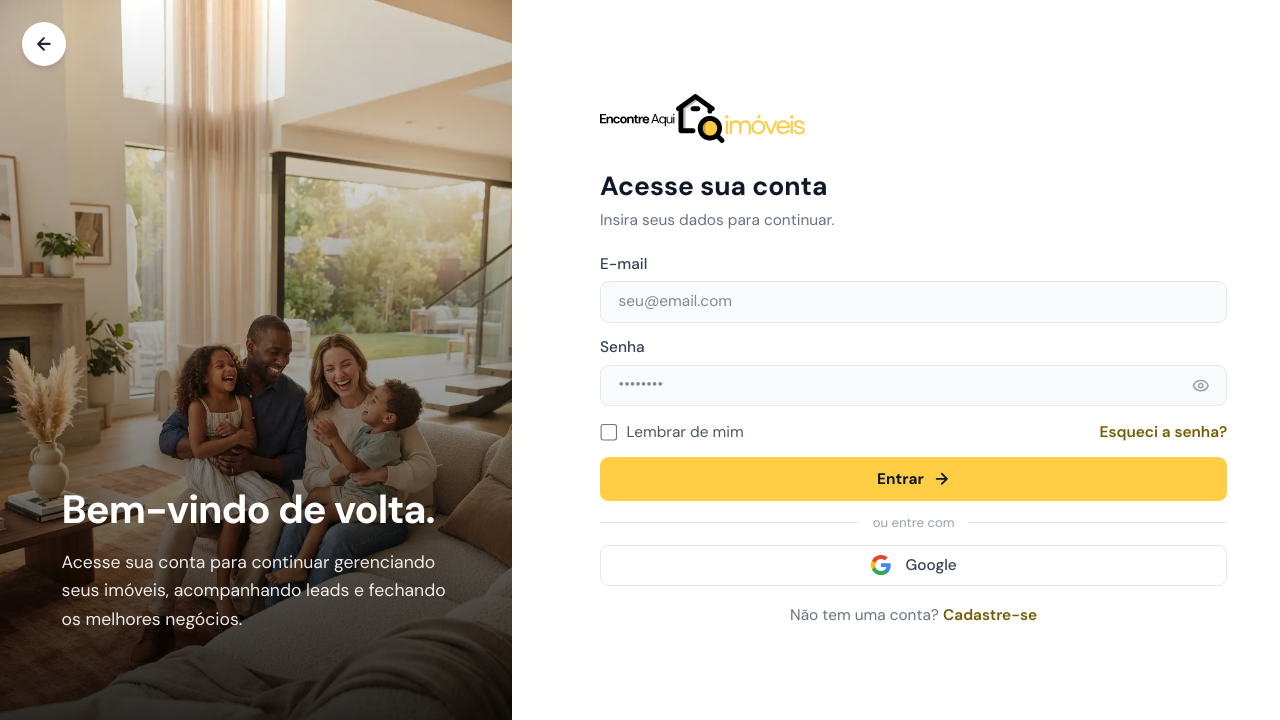
Test: login page › mostra mensagem de divergência de perfil no sentido inverso
The image size is (1280, 720).
In the field labelled "E-mail": [914, 302] box [600, 281, 1227, 323], type "broker-user@example.com"
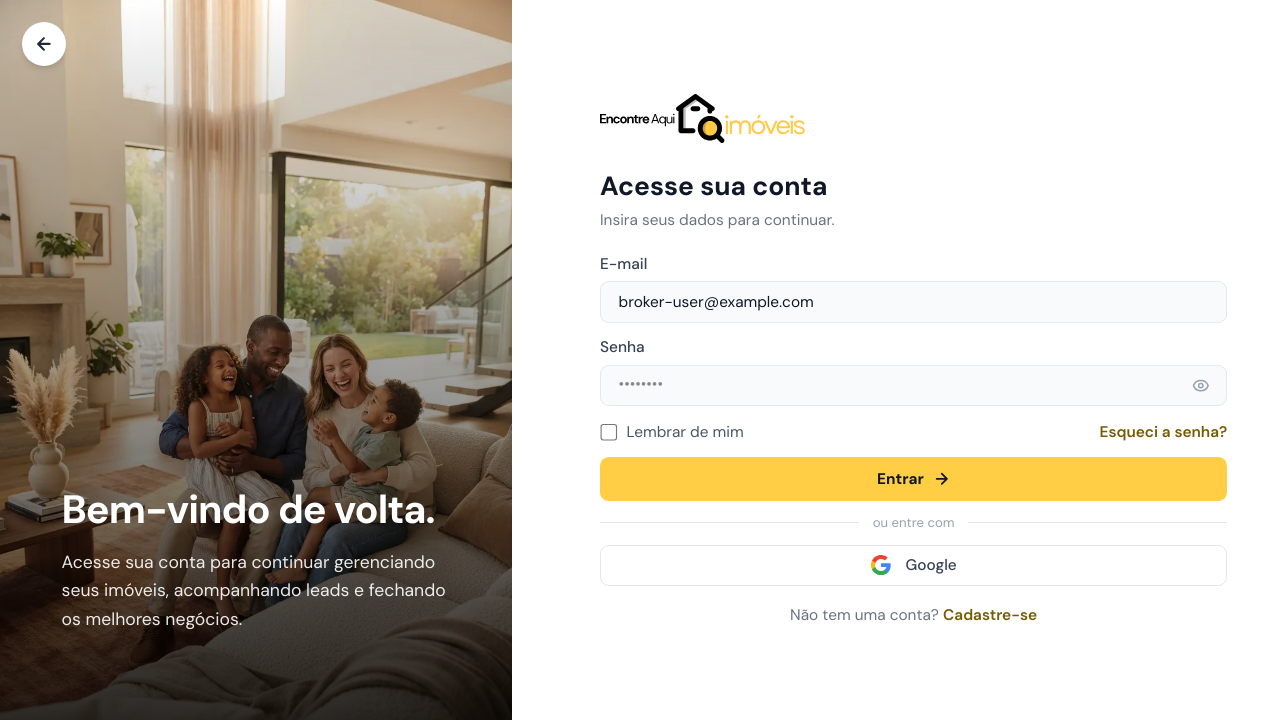
In the password field labelled "Senha": [914, 385] box [600, 364, 1227, 406], type "123456"
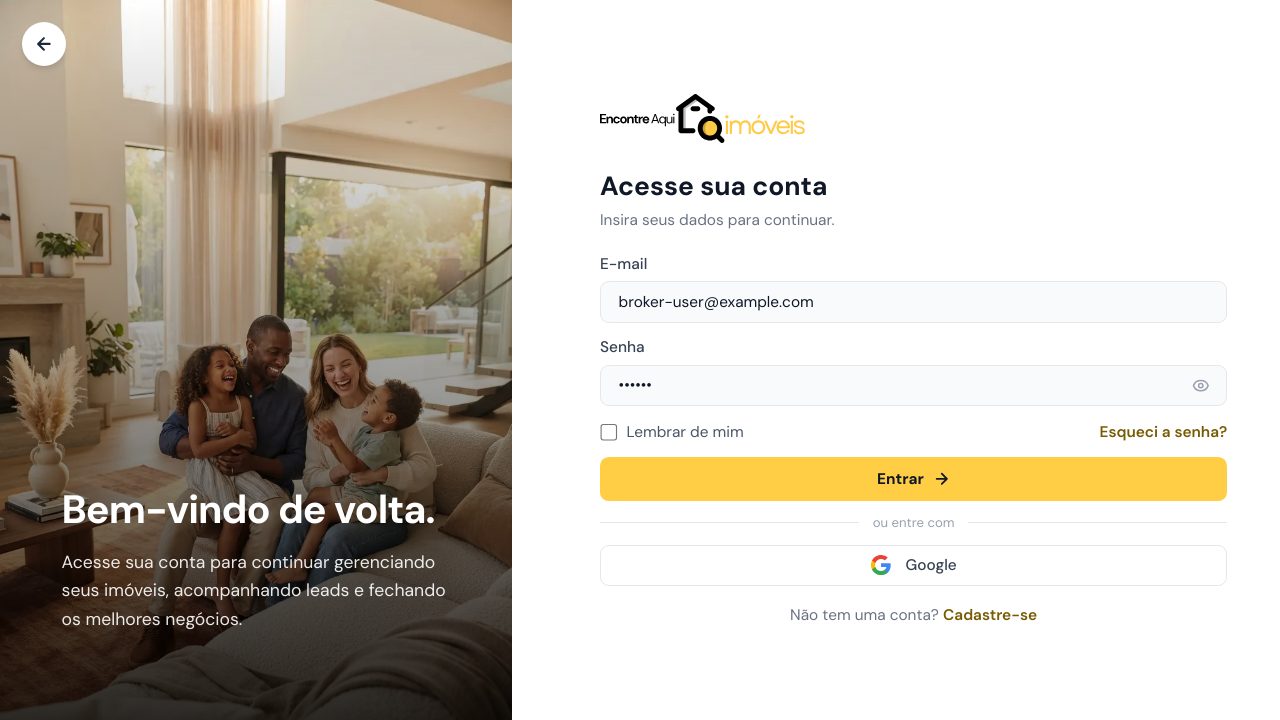
Click the button "Entrar": [914, 479] box [600, 457, 1227, 501]
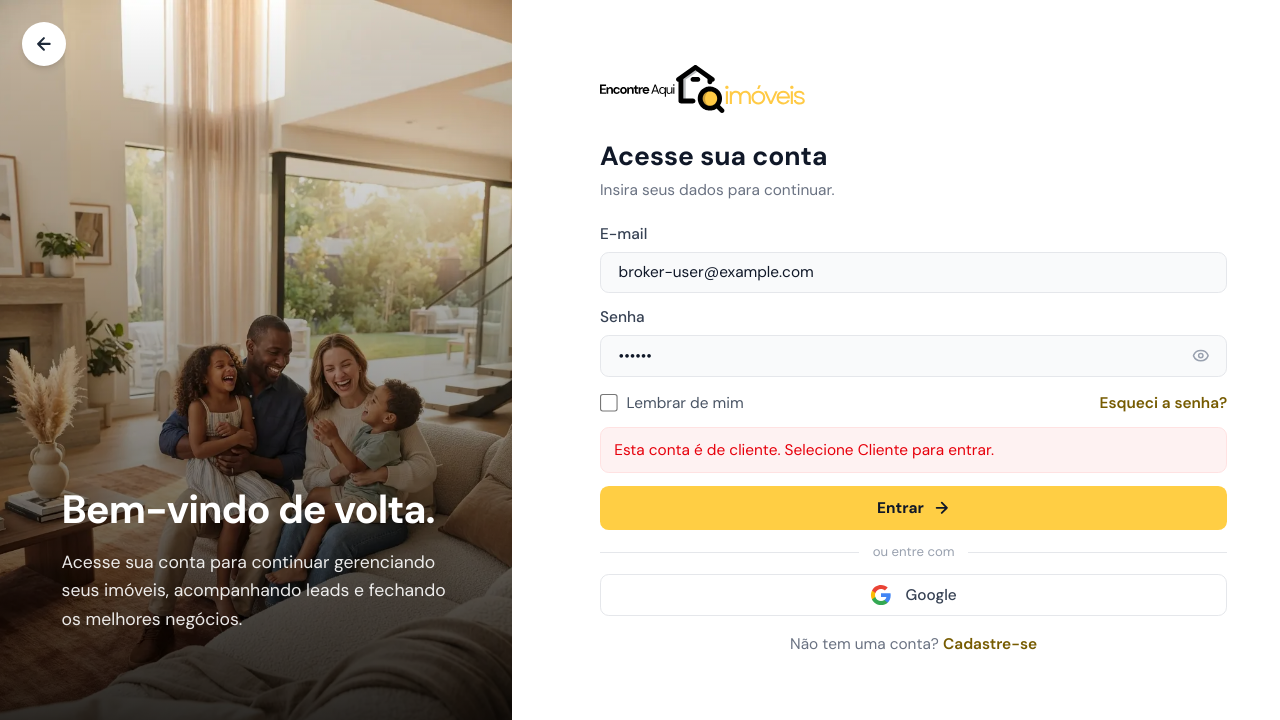
Result: the message reads "Esta conta é de cliente. Selecione Cliente para entrar." at [614, 440, 994, 460]
